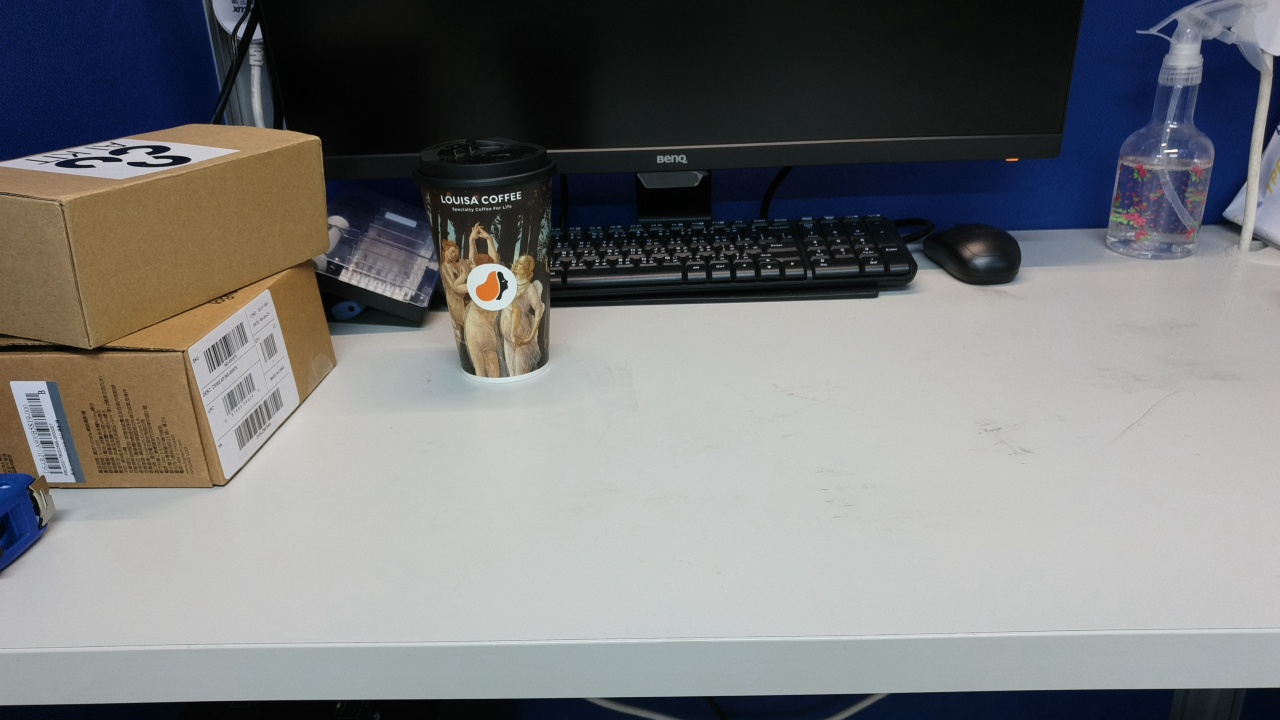blade: (564, 572, 729, 625)
grasp: (382, 577, 574, 698)
